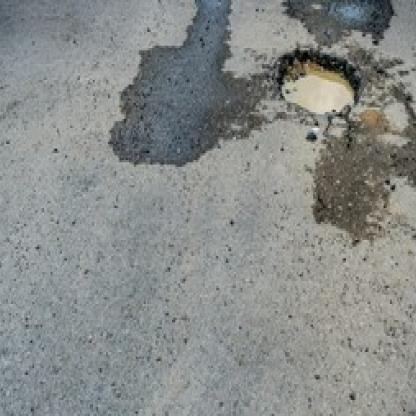pothole: (279, 46, 362, 119)
